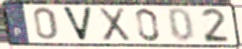0: (167, 7, 196, 44), (32, 6, 61, 42), (135, 8, 161, 42)
2: (199, 7, 233, 44)
V: (60, 5, 95, 43)
X: (96, 7, 132, 43)
